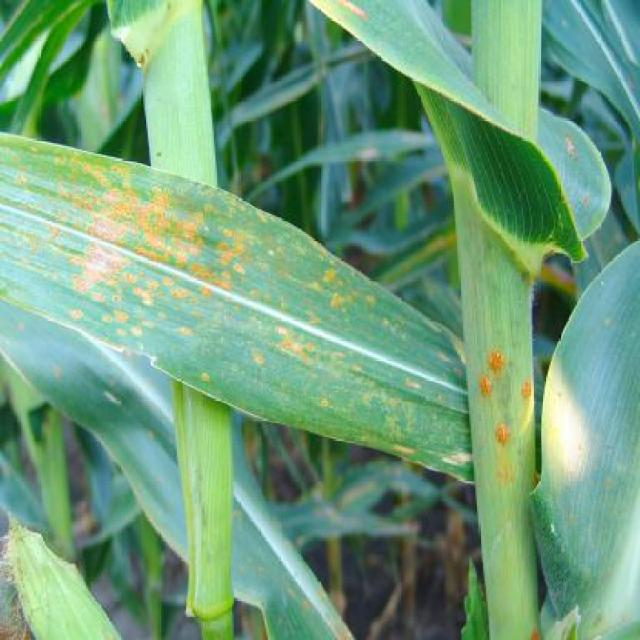Corn_Rust: (0, 118, 432, 507), (454, 278, 552, 476)
